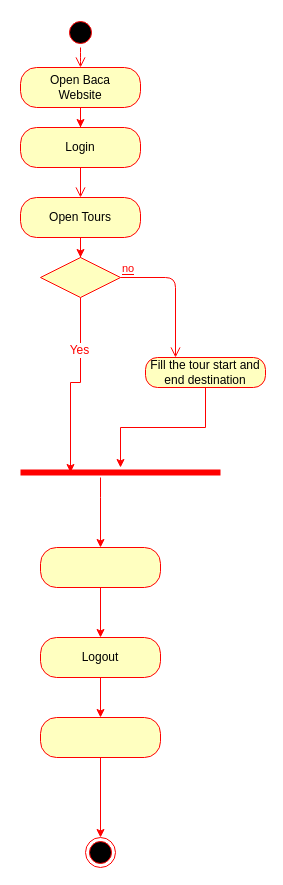
This 283x885 diagram has some shape labels left out. Each missing label, with the box of its shape:
Close Baca App: (40, 716, 160, 758)
Pay the bookings: (40, 546, 160, 588)
Predefined tour: (40, 256, 120, 298)
